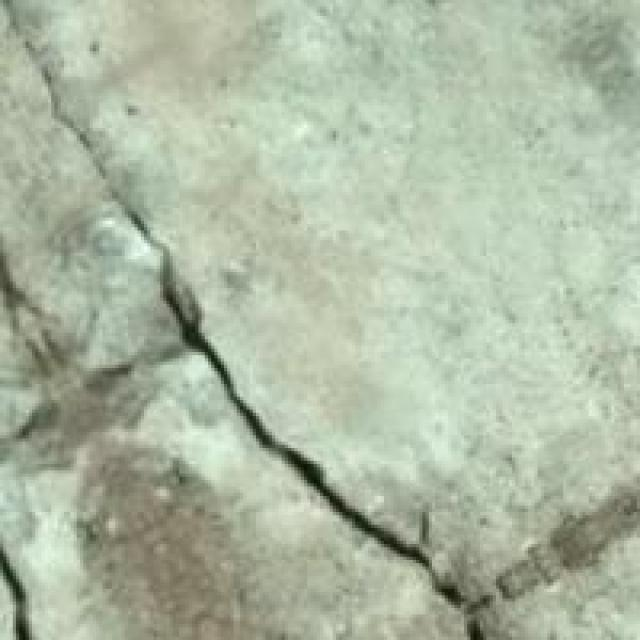Crack: (42, 70, 637, 636)
